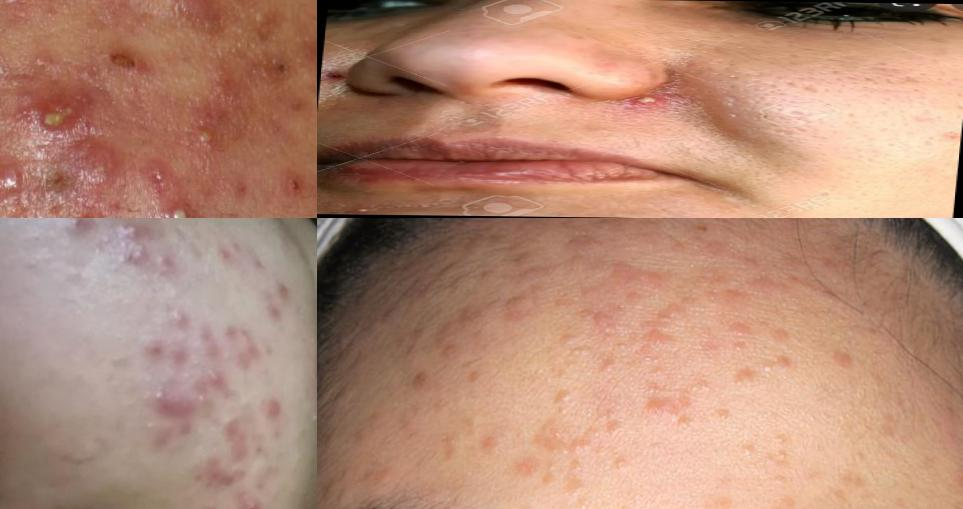acne_scars: (204, 401, 274, 465), (194, 315, 274, 371), (193, 452, 254, 492), (210, 241, 245, 269)
flat_wart: (391, 290, 475, 399), (487, 219, 602, 289), (474, 413, 539, 483), (640, 299, 708, 356), (718, 316, 800, 358), (720, 265, 795, 309), (672, 375, 720, 441), (732, 427, 810, 467), (491, 286, 548, 340), (521, 418, 597, 457), (572, 301, 638, 340), (612, 248, 659, 296), (727, 368, 770, 400), (551, 380, 580, 417), (360, 463, 393, 487), (602, 417, 630, 441)
papular: (57, 149, 124, 202), (1, 150, 33, 219), (135, 333, 174, 372), (139, 380, 181, 416), (113, 219, 157, 244), (60, 219, 96, 242), (154, 244, 175, 281), (172, 306, 193, 340), (200, 368, 233, 389), (237, 494, 268, 509), (190, 497, 221, 509)
purulent: (192, 124, 240, 175), (158, 191, 213, 219), (614, 91, 676, 111)
sebo-crystan-conglo: (14, 90, 106, 144)
whitehead: (256, 284, 302, 328), (555, 332, 598, 365), (123, 236, 159, 274), (671, 469, 714, 498), (707, 398, 742, 431), (733, 441, 761, 472), (188, 391, 219, 416), (138, 412, 165, 440), (608, 453, 635, 479), (727, 338, 760, 359), (600, 348, 627, 373), (301, 404, 318, 435), (612, 336, 633, 358), (95, 230, 114, 254), (114, 246, 132, 271), (645, 377, 665, 399)
